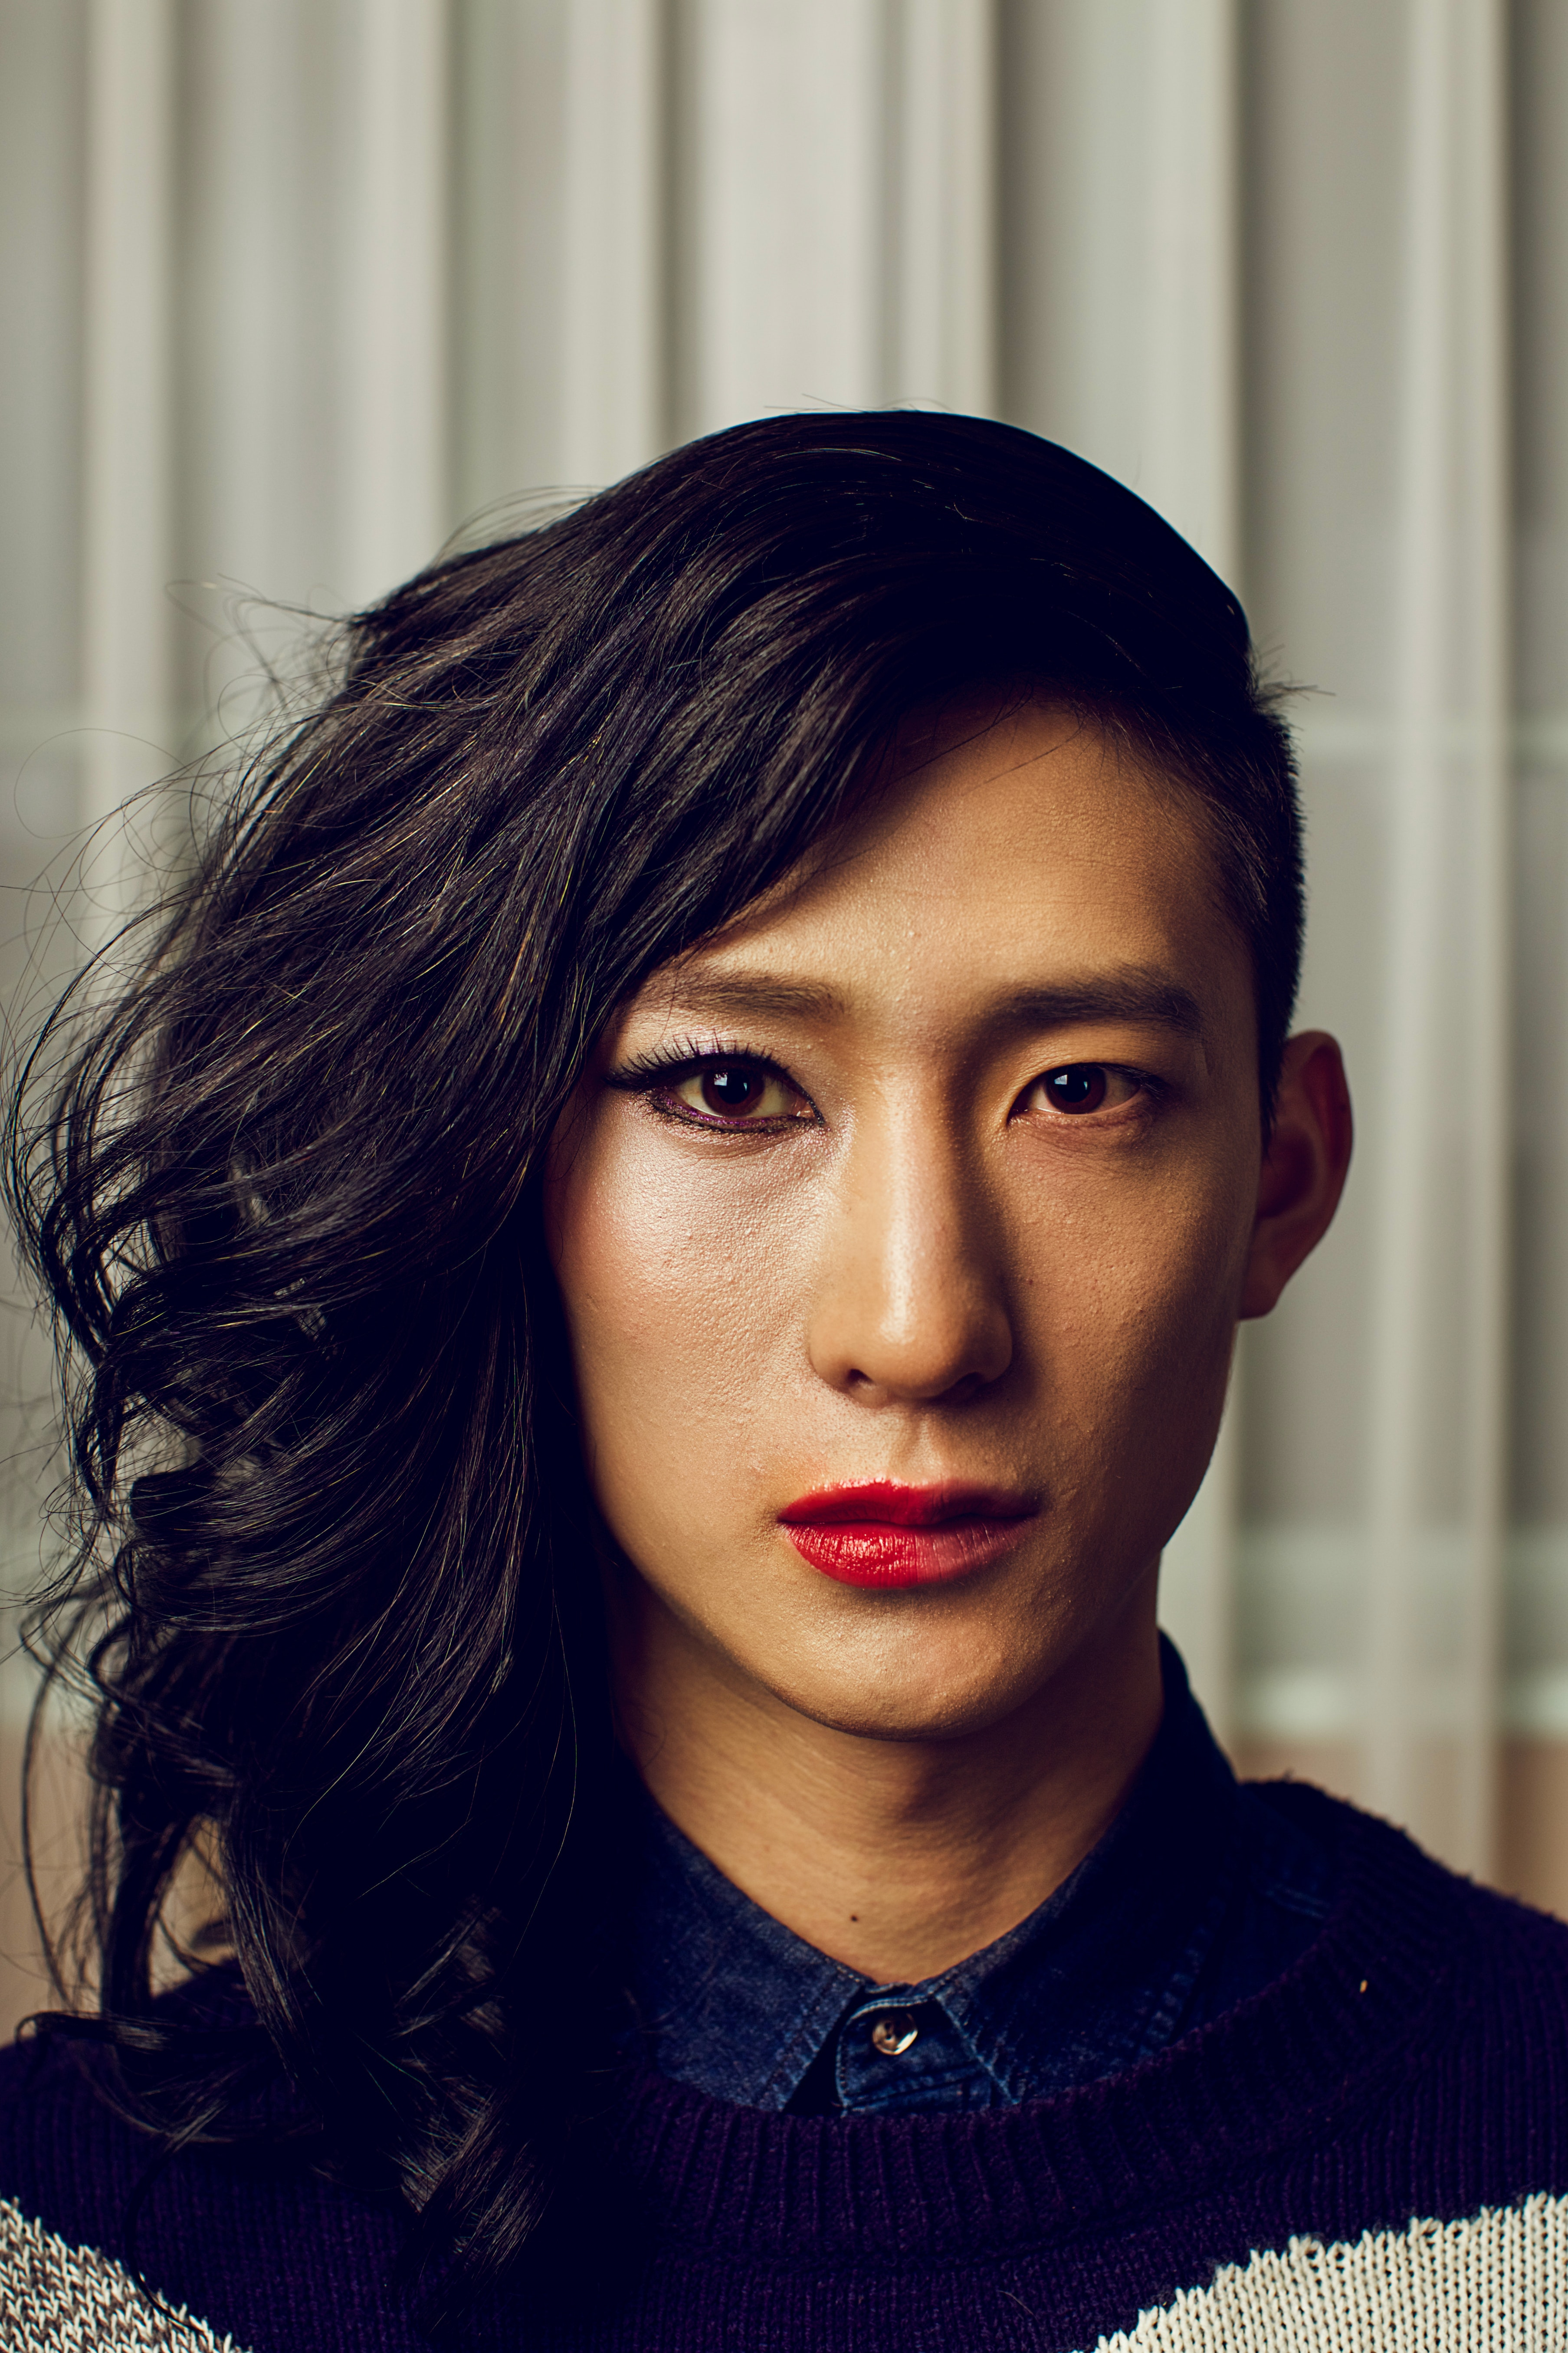person: (1, 408, 1568, 2335)
